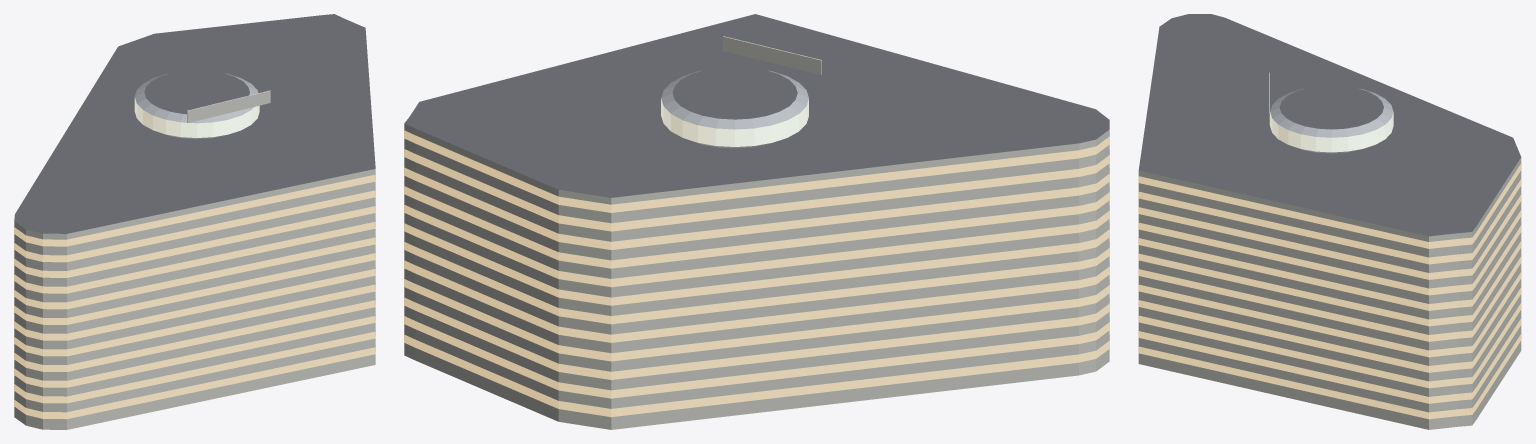
The model's file is kotsu_kaikan.glb.
3 renders of one model, left to right at view 1: azimuth 30°, elevation 25°; view 2: azimuth 150°, elevation 25°; view 3: azimuth 270°, elevation 25°, orthographic. The views are drawn at different scales.
Parts seen in each view (by area): view 1: FKK_Building; view 2: FKK_Building; view 3: FKK_Building.
Boxes of the visible parts, x1,y1,x2,y2 form: FKK_Building: (14,14,375,429); FKK_Building: (404,14,1109,429); FKK_Building: (1138,14,1521,429).
Bounding box in the file's own units: 111 × 54.03 × 80.69.
